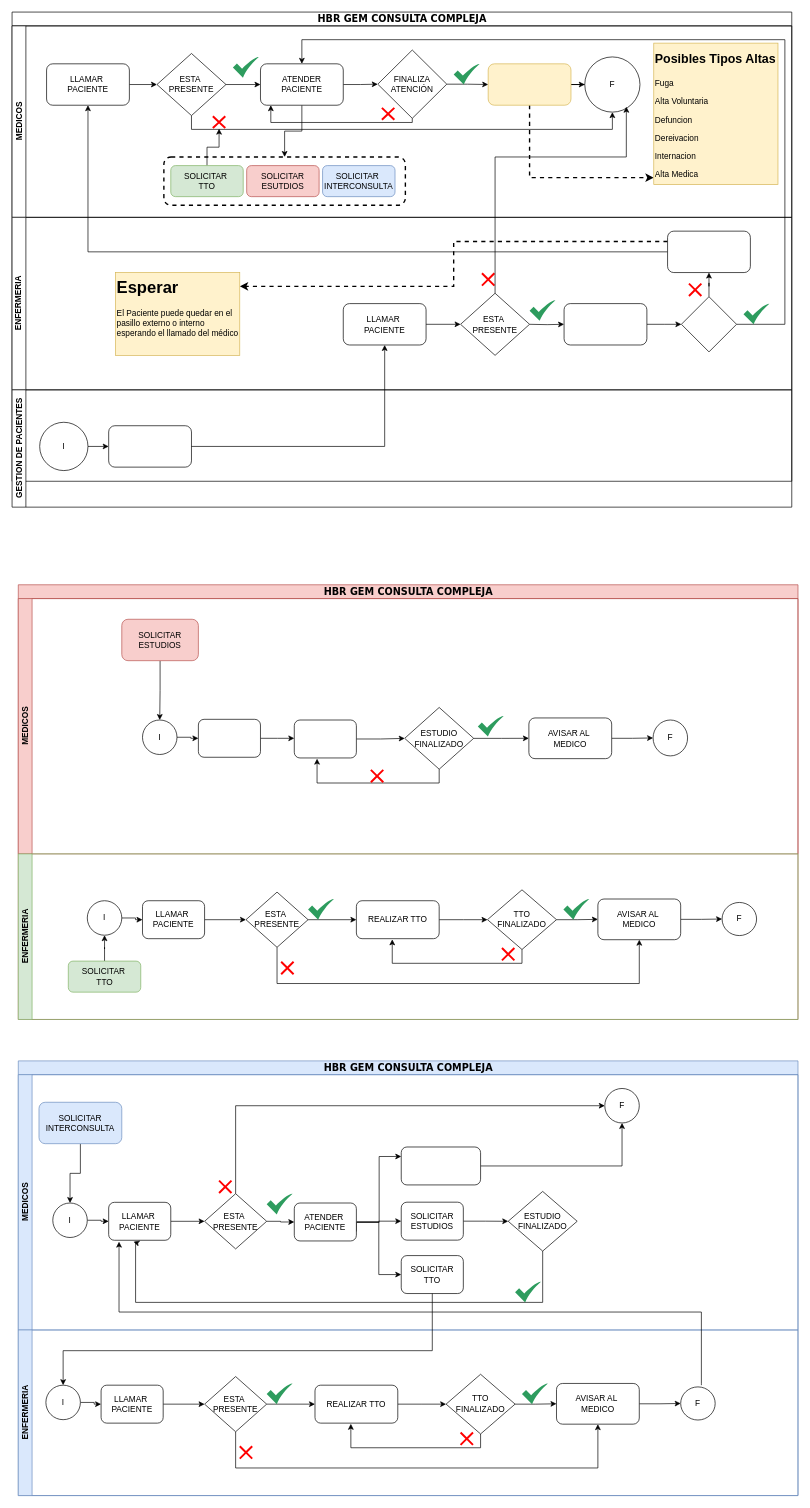
Some shapes in this 810 by 1508 pixel diagram are drawn without their labels. The shapes that lost their labels are listed below. From the top down, each one's centre as x and y in pixels, then its label:
At point (529, 84): "FINALIZAR ATENCIÓN".
At point (708, 251): "ESPERAR ATENCION MEDICA".
At point (605, 324): "REALIZAR TRIAJE".
At point (709, 324): "Shocroom".
At point (149, 446): "RECEPCIONAR PACIENTES".
At point (229, 738): "SOLICITAR ESTUDIO".
At point (325, 738): "ESPERAR ESTUDIO".
At point (441, 1165): "FINALIZA INTERCONSULTA".
